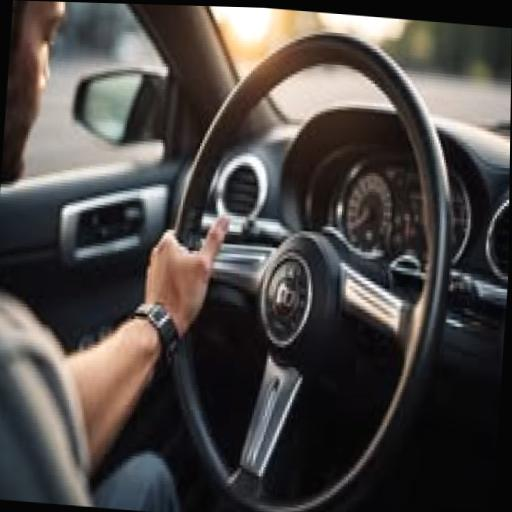Hands-on-the-Wheel: (123, 179, 252, 350)
